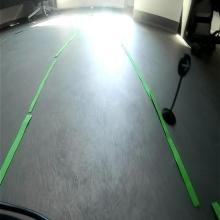right: (178, 53, 191, 78)
